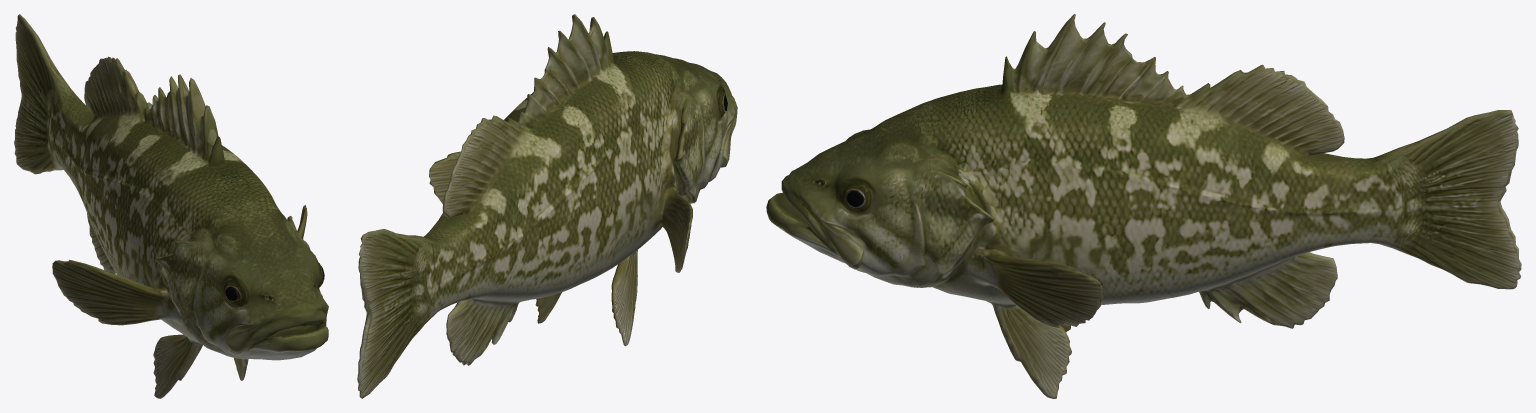
Rendered from seabass.glb.
The picture shows the model from 3 angles, left to right: view 1: azimuth 30°, elevation 25°; view 2: azimuth 150°, elevation 25°; view 3: azimuth 270°, elevation 25°; orthographic projection. The views are drawn at different scales.
Visible parts, largest first — view 1: tripo_node_4aa42ccc-1525-4693-8246-eb66c40fb4d3; view 2: tripo_node_4aa42ccc-1525-4693-8246-eb66c40fb4d3; view 3: tripo_node_4aa42ccc-1525-4693-8246-eb66c40fb4d3.
Part boxes in pixels (bbox=[...]): tripo_node_4aa42ccc-1525-4693-8246-eb66c40fb4d3: bbox=[14, 14, 328, 398]; tripo_node_4aa42ccc-1525-4693-8246-eb66c40fb4d3: bbox=[357, 14, 737, 398]; tripo_node_4aa42ccc-1525-4693-8246-eb66c40fb4d3: bbox=[766, 14, 1521, 398].
Size of the model in its own units: 0.4454 by 0.5274 by 0.9992.
Materials: 1 (1 with a texture image).
